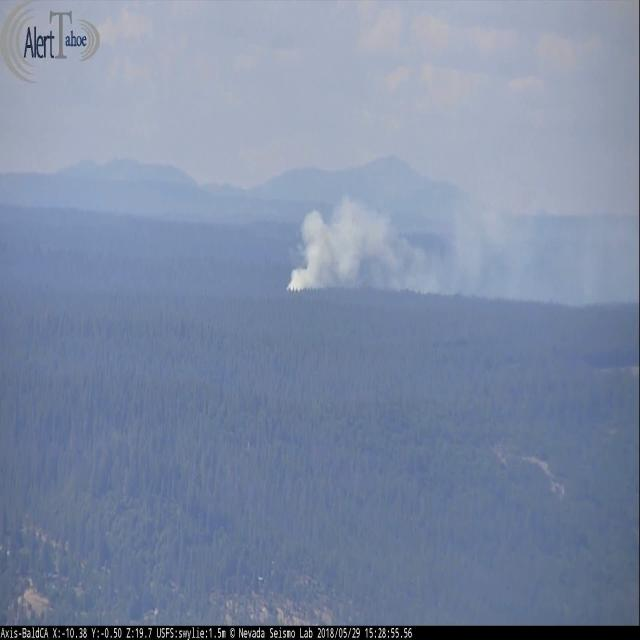smoke: (285, 198, 392, 297)
